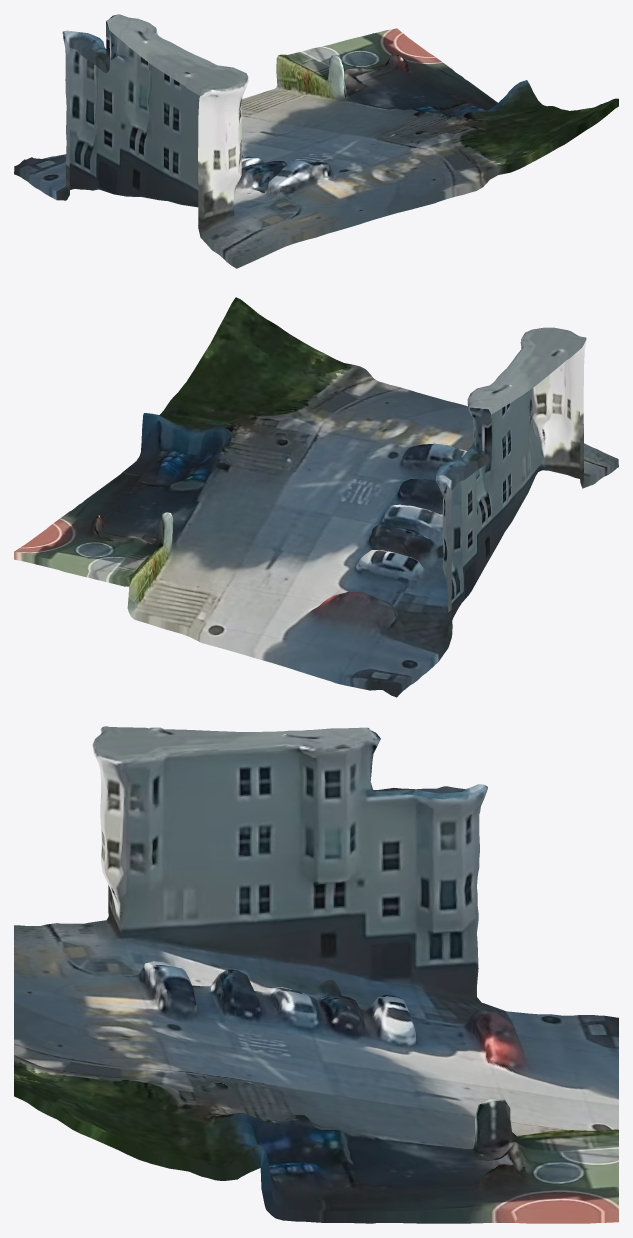
Rendered from z20-167753-405197-h0-yup-uvflip-v3-world.glb.
3 renders of one model, top to bottom at view 1: azimuth 30°, elevation 25°; view 2: azimuth 150°, elevation 25°; view 3: azimuth 270°, elevation 25°, orthographic. The views are drawn at different scales.
Size of the model in its own units: 30.2 by 16.8 by 30.32.
Materials: 1 (1 with a texture image).
